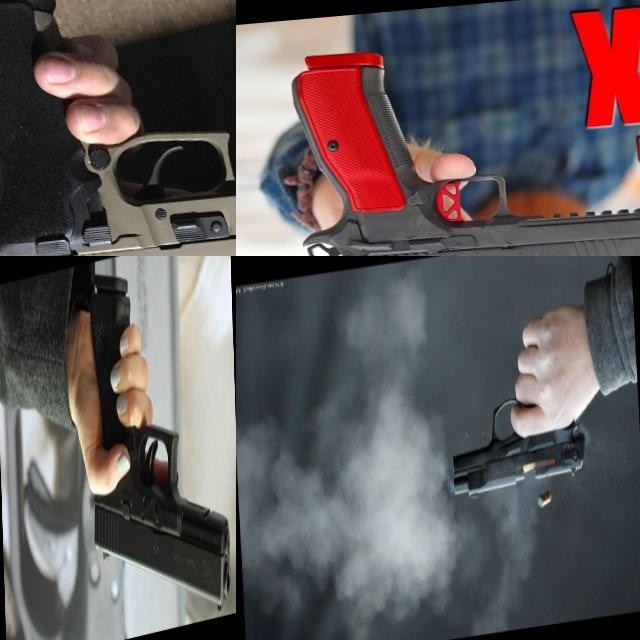handgun: (281, 18, 640, 256), (0, 0, 236, 256), (84, 256, 234, 640), (443, 307, 590, 502)
